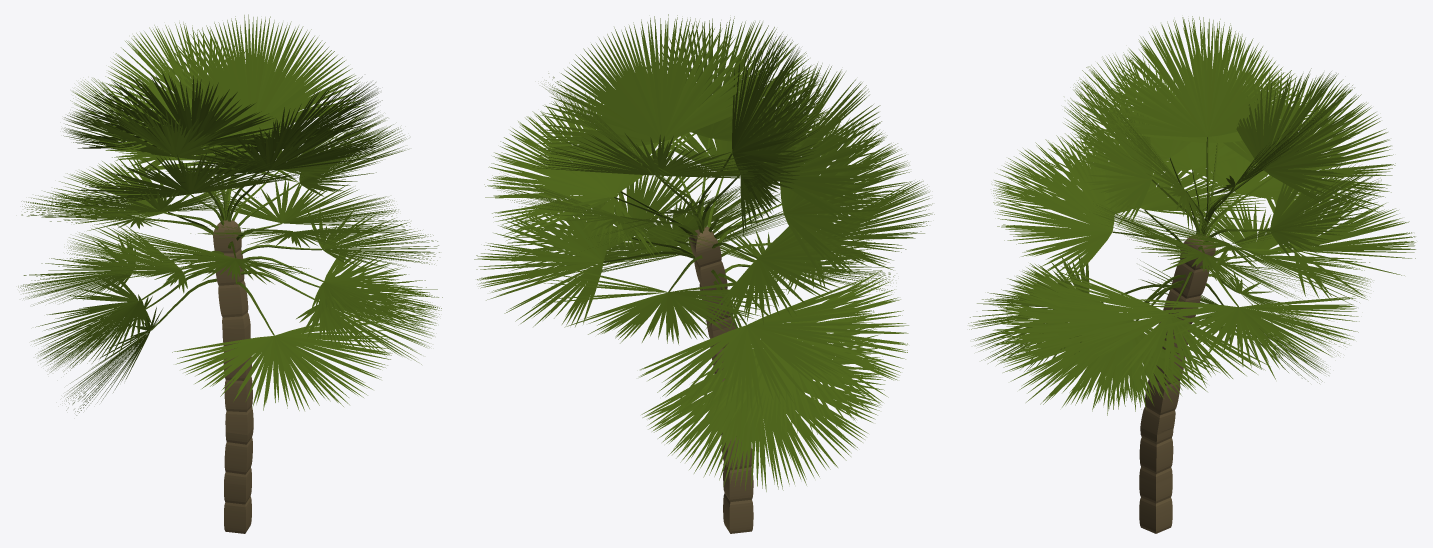
The model's file is fanPalm.obj.
The picture shows the model from 3 angles, left to right: view 1: azimuth 30°, elevation 25°; view 2: azimuth 150°, elevation 25°; view 3: azimuth 270°, elevation 25°; orthographic projection. The views are drawn at different scales.
Visible parts, largest first — view 1: leaves, leaves2, trunk, stems_1; view 2: leaves, leaves2, trunk, stems_1; view 3: leaves, leaves2, trunk, stems_1.
Boxes of the visible parts, x1,y1,x2,y2 form: leaves: (18, 14, 441, 415); leaves2: (20, 15, 442, 412); trunk: (213, 220, 253, 533); stems_1: (134, 130, 323, 335); leaves: (474, 16, 931, 491); leaves2: (476, 14, 934, 486); trunk: (689, 227, 753, 533); stems_1: (603, 138, 783, 328); leaves: (968, 17, 1415, 413); leaves2: (969, 16, 1415, 415); trunk: (1139, 234, 1215, 533); stems_1: (1101, 137, 1294, 321).
Size of the model in its own units: 5.23 by 6.38 by 5.46.
